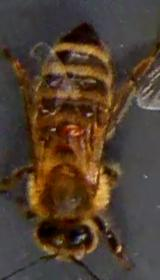varroa_mite: (54, 118, 86, 142)
